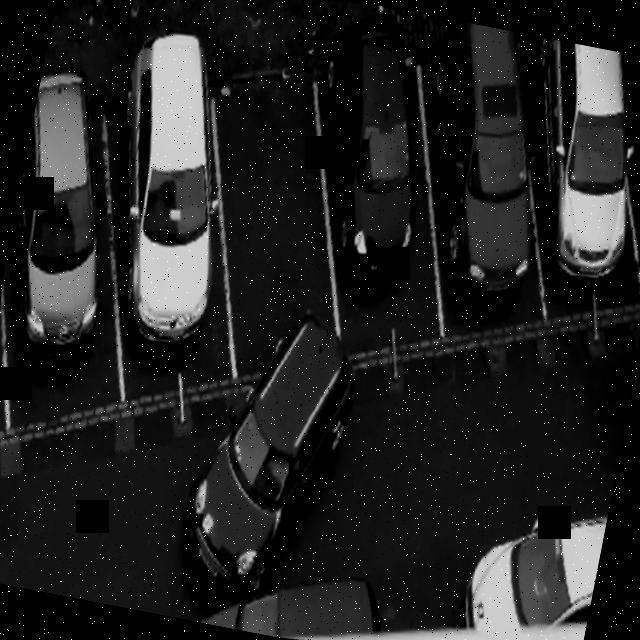car: (52, 55, 280, 408), (164, 45, 386, 398), (272, 28, 486, 394), (363, 15, 583, 370), (0, 76, 167, 429), (473, 35, 640, 360)
